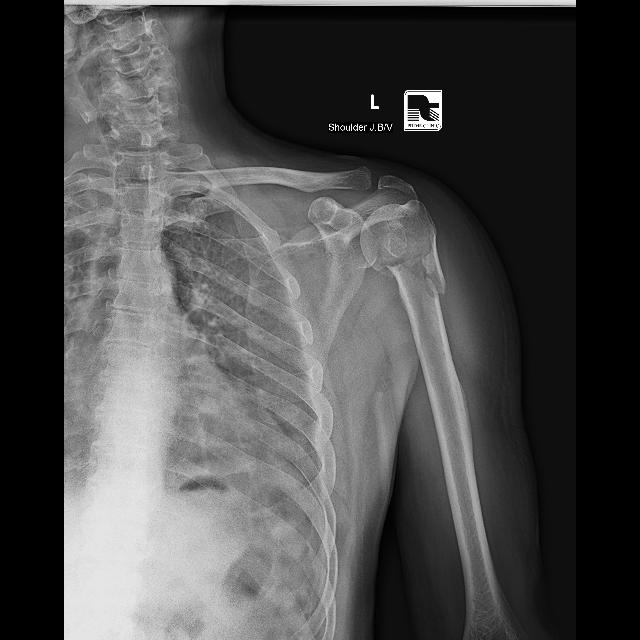Fracture: (390, 235, 450, 307)
